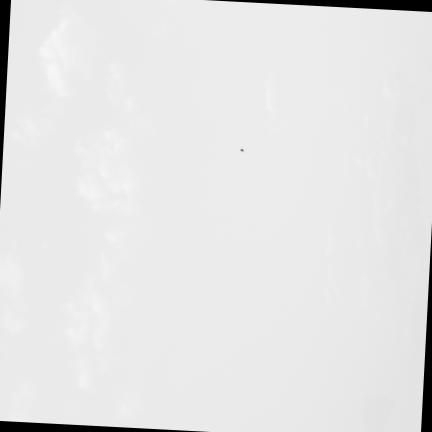Shahed: (240, 148, 243, 151)
